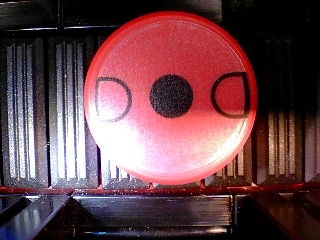BOHOMIPO2: (84, 11, 258, 185)
